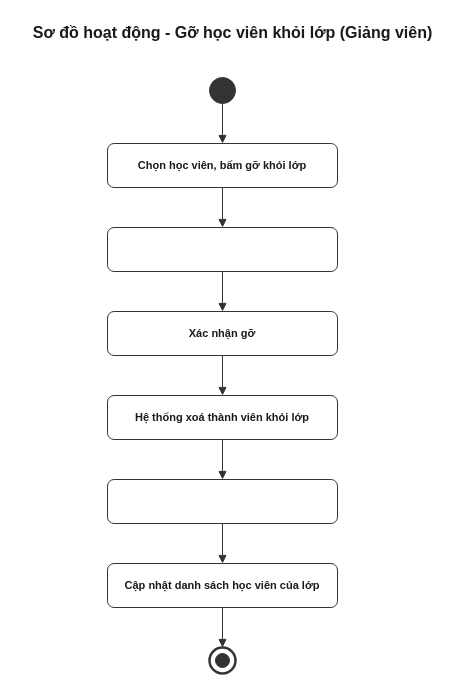
The diagram is 464 pixels wide and 692 high, and some of its shapes have lost their labels. The centre of each missing label's shape, as x and y in pixels:
"Hệ thống hỏi xác nhận: lịch sử làm bài trong lớp sẽ bị xoá" goes at (222,249).
"Hệ thống xoá lịch sử làm bài của học viên trong lớp" goes at (222,501).
